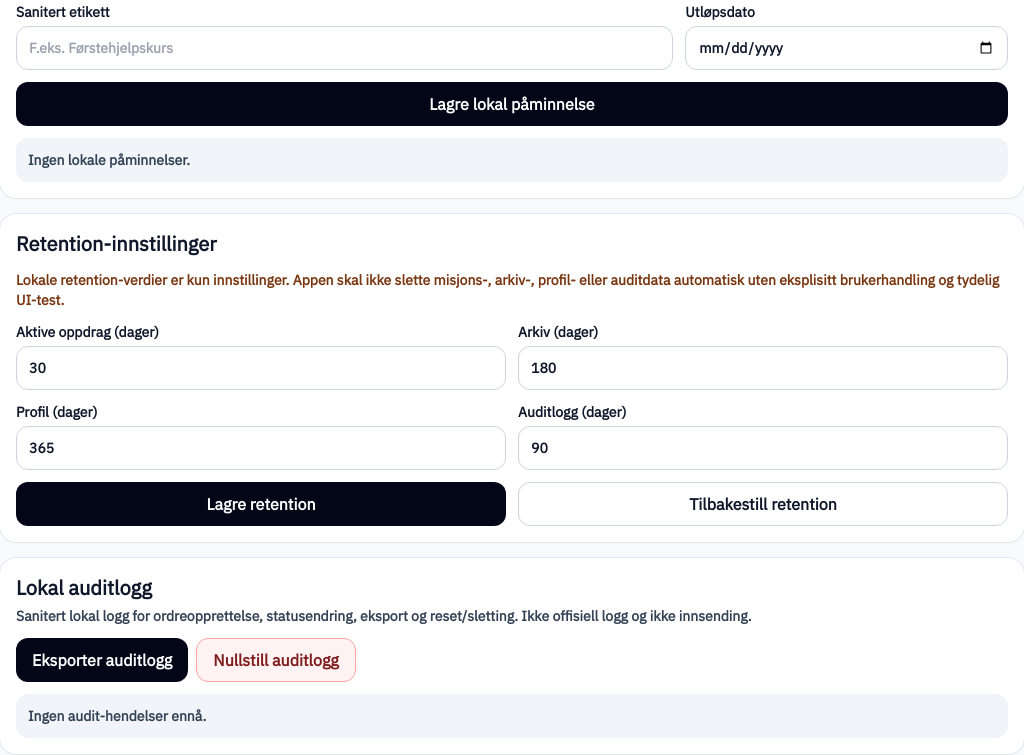
Test: saves retention settings without silent deletion
(page scrolled)
Replace the text in the number field labelled "Aktive oppdrag (dager)" with "14" at {"x": 261, "y": 368}, box 16,346 -> 506,390
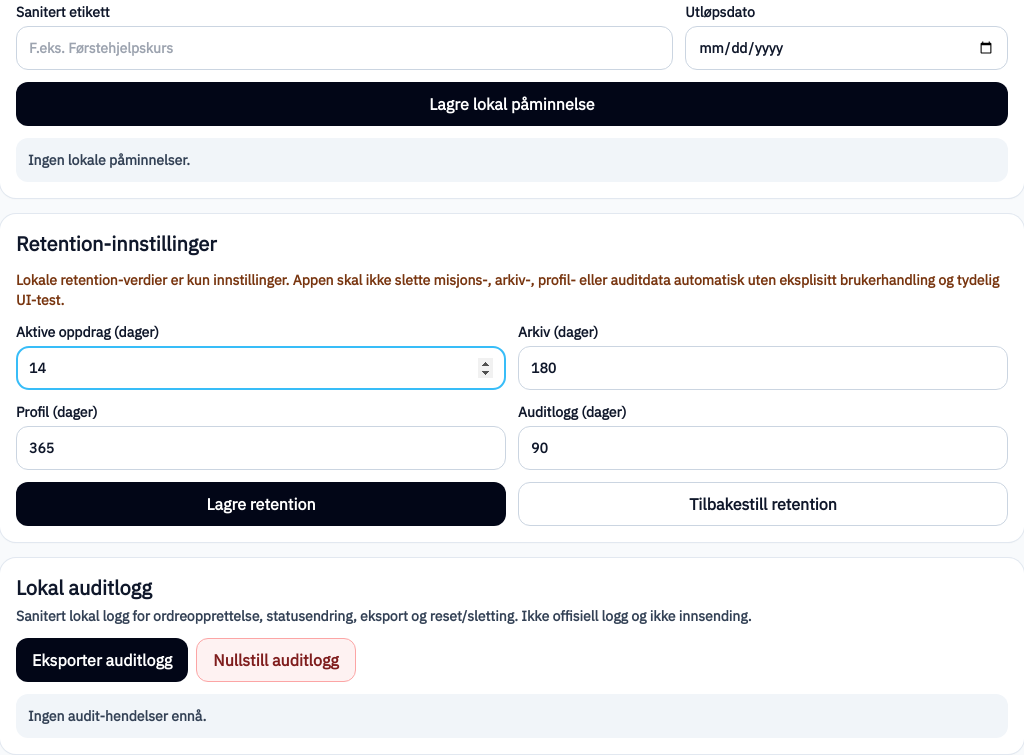
Replace the text in the number field labelled "Arkiv (dager)" with "90" at {"x": 763, "y": 368}, box 518,346 -> 1008,390
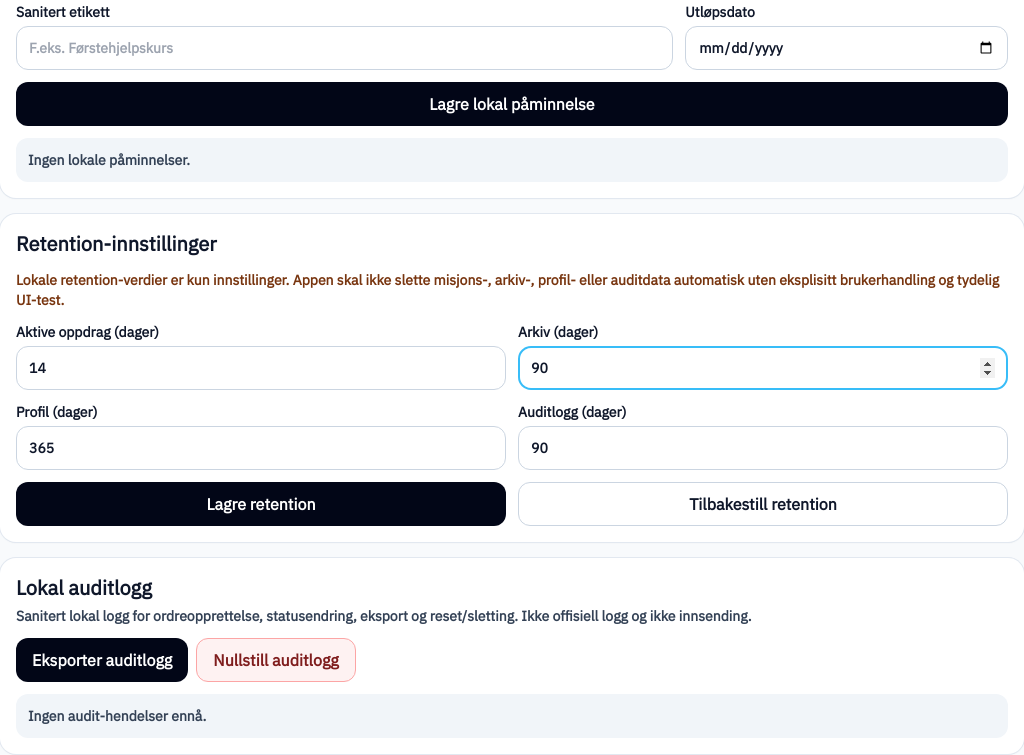
Replace the text in the number field labelled "Profil (dager)" with "120" at {"x": 261, "y": 448}, box 16,426 -> 506,470
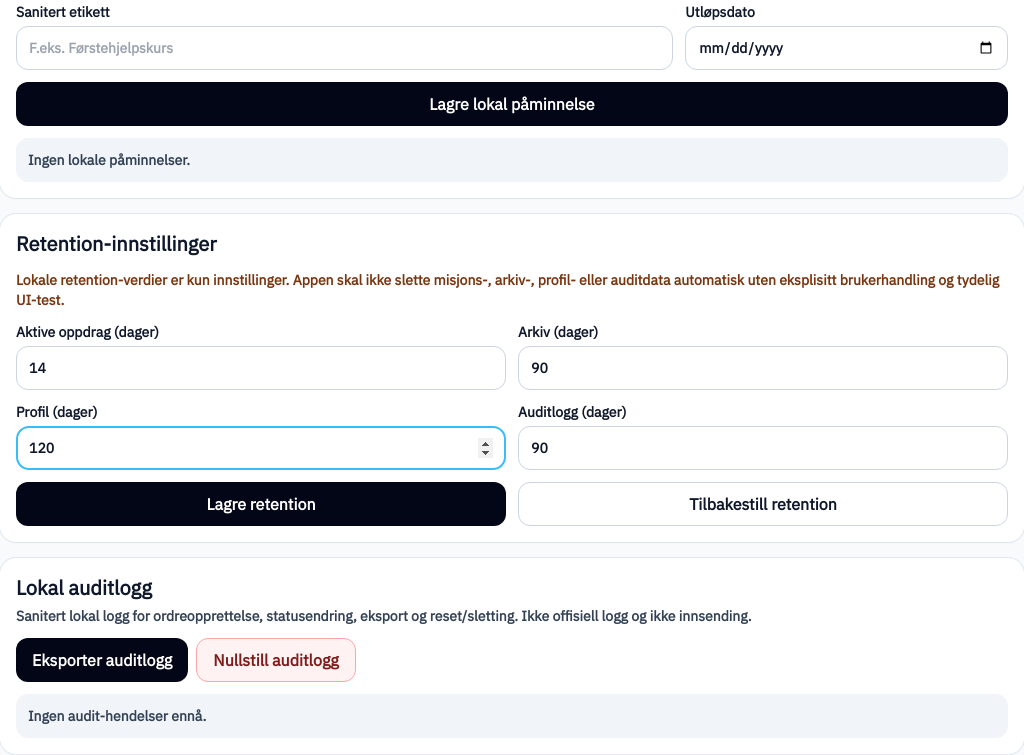
Replace the text in the number field labelled "Auditlogg (dager)" with "45" at {"x": 763, "y": 448}, box 518,426 -> 1008,470
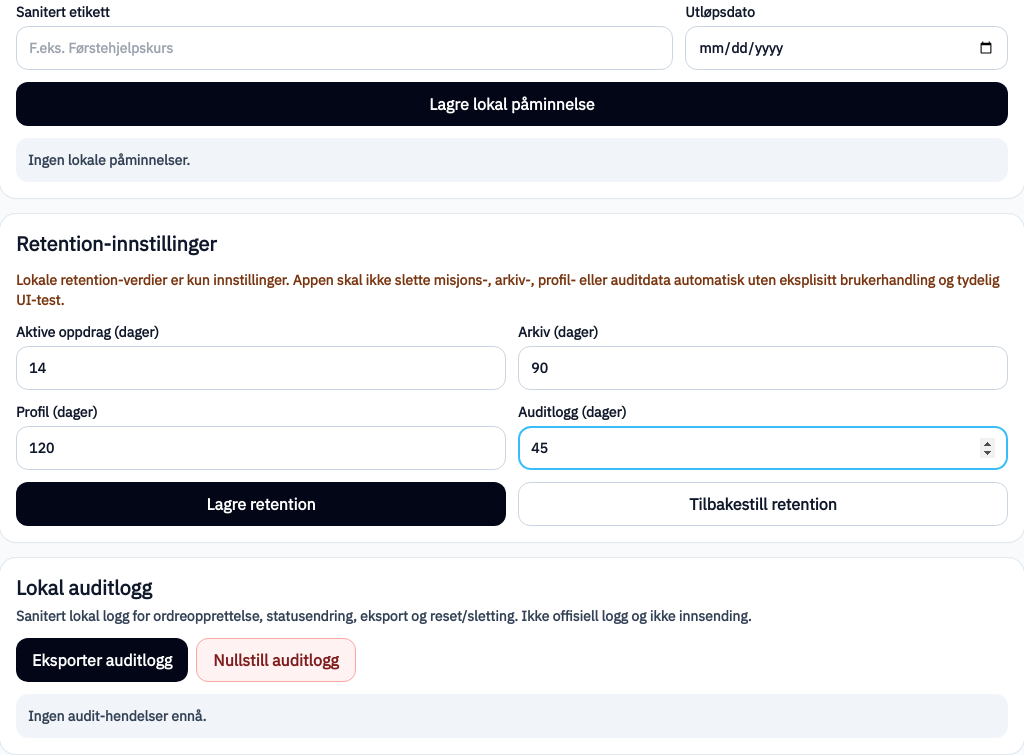
Click the button "Lagre retention".
click(261, 504)  # box 16,482 -> 506,526
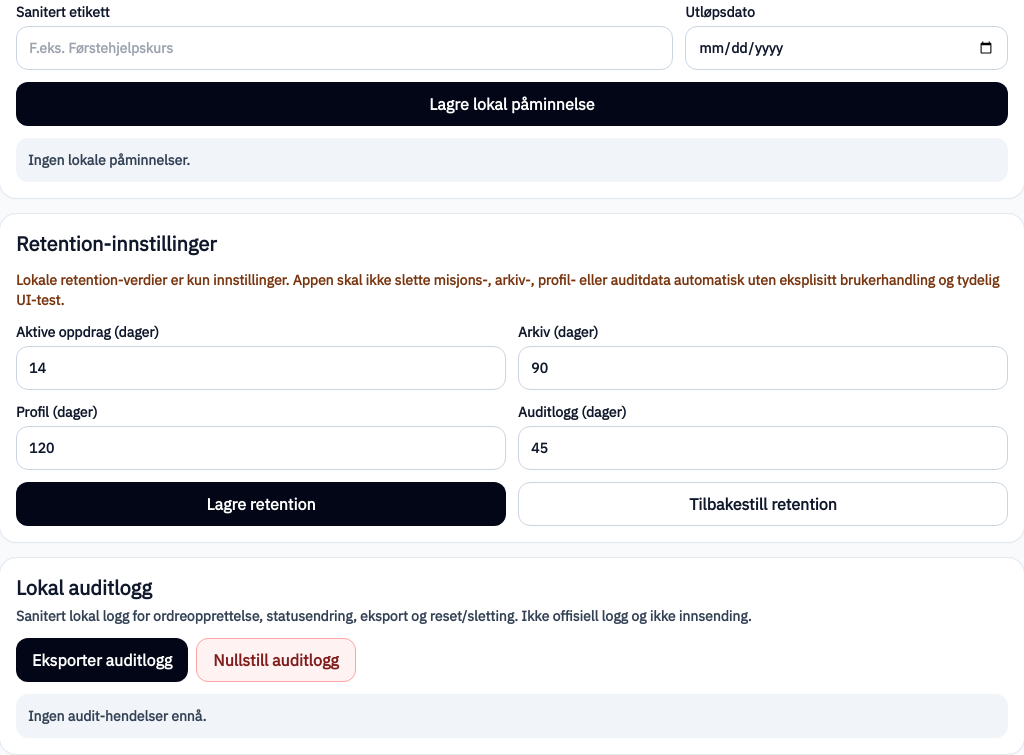
Click the button "Tilbakestill retention".
click(763, 504)  # box 518,482 -> 1008,526
(page scrolled)
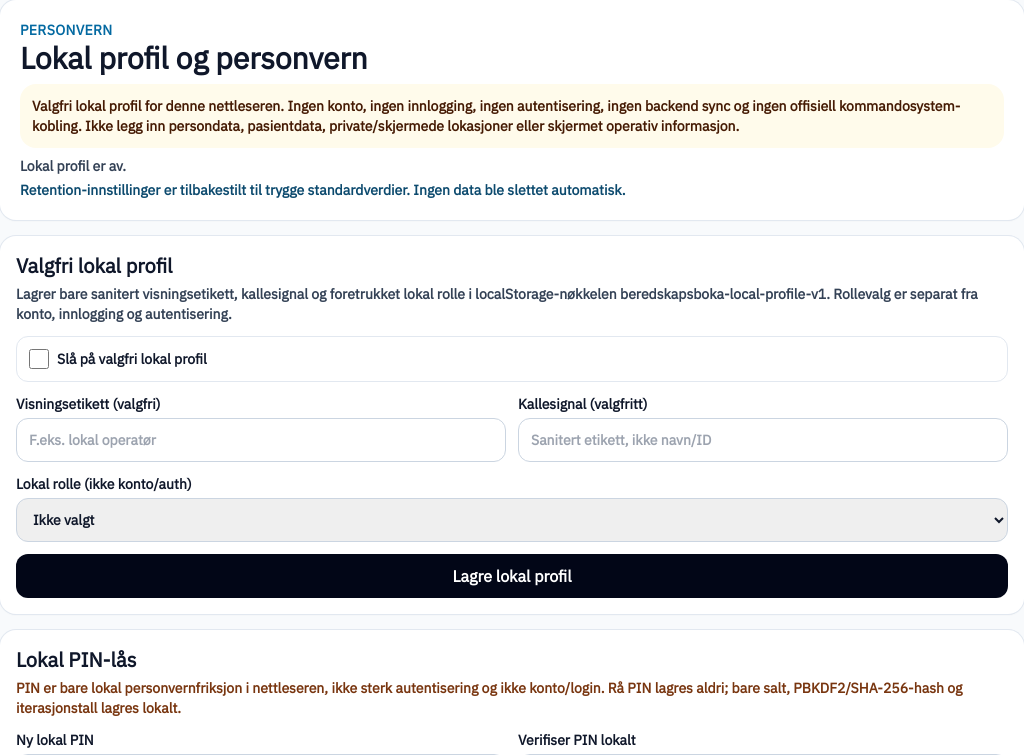
Now the text with test id "local-profile-message" shows "Ingen data ble slettet automatisk", box 20,181 -> 626,199
